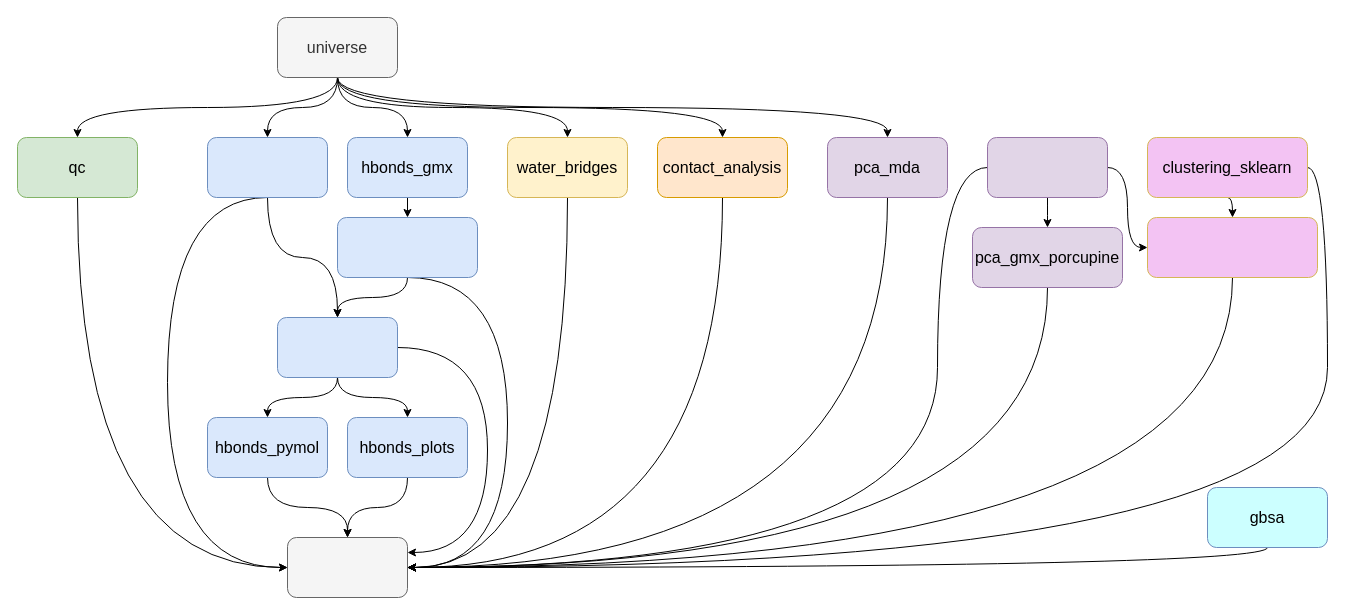
Some shapes in this 1345 by 615 pixel diagram are drawn without their labels. Each missing label, with the box of its shape:
all: (286, 536, 408, 598)
clustering_pca_gmx: (1146, 216, 1318, 278)
hbonds_extend: (276, 316, 398, 378)
hbonds_gmx_parse: (336, 216, 478, 278)
hbonds_mda: (206, 136, 328, 198)
pca_gmx: (986, 136, 1108, 198)
